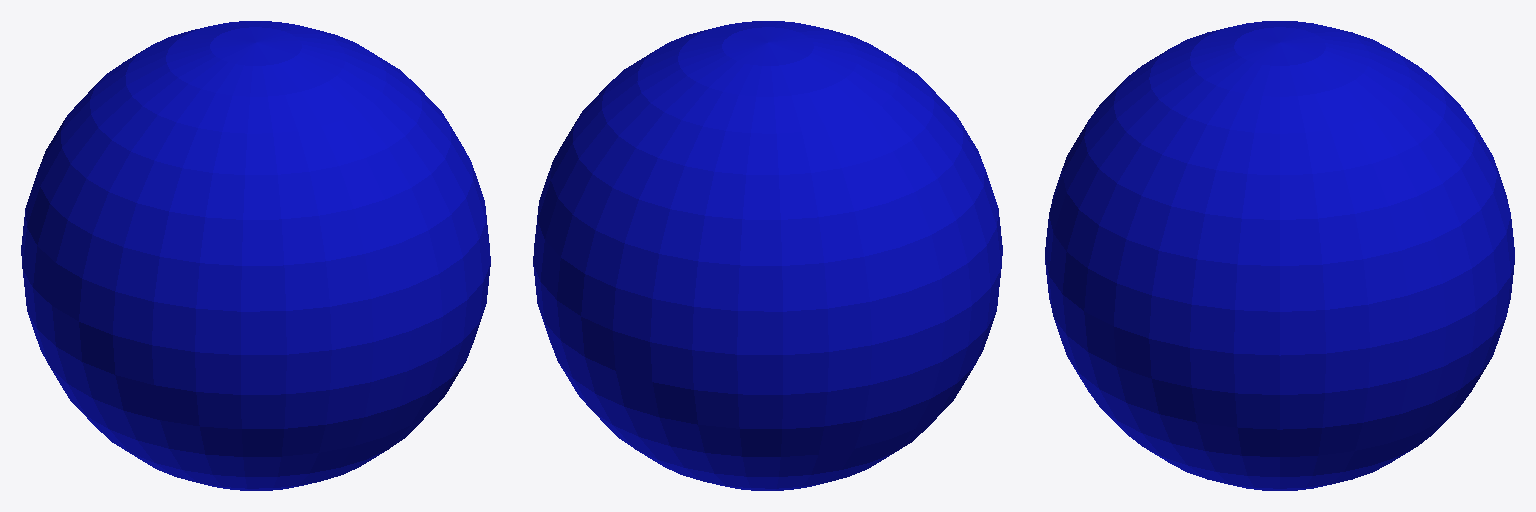
File: sphereuv.obj
3 views of the same model, side by side, from view 1: azimuth 30°, elevation 25°; view 2: azimuth 150°, elevation 25°; view 3: azimuth 270°, elevation 25° (orthographic).
Parts seen in each view (by area): view 1: Sphere; view 2: Sphere; view 3: Sphere.
Part boxes in pixels (x1,y1,x2,y2): Sphere: (21,21,490,490); Sphere: (533,21,1002,490); Sphere: (1045,21,1514,490).
Bounding box in the file's own units: 2 × 2 × 2.